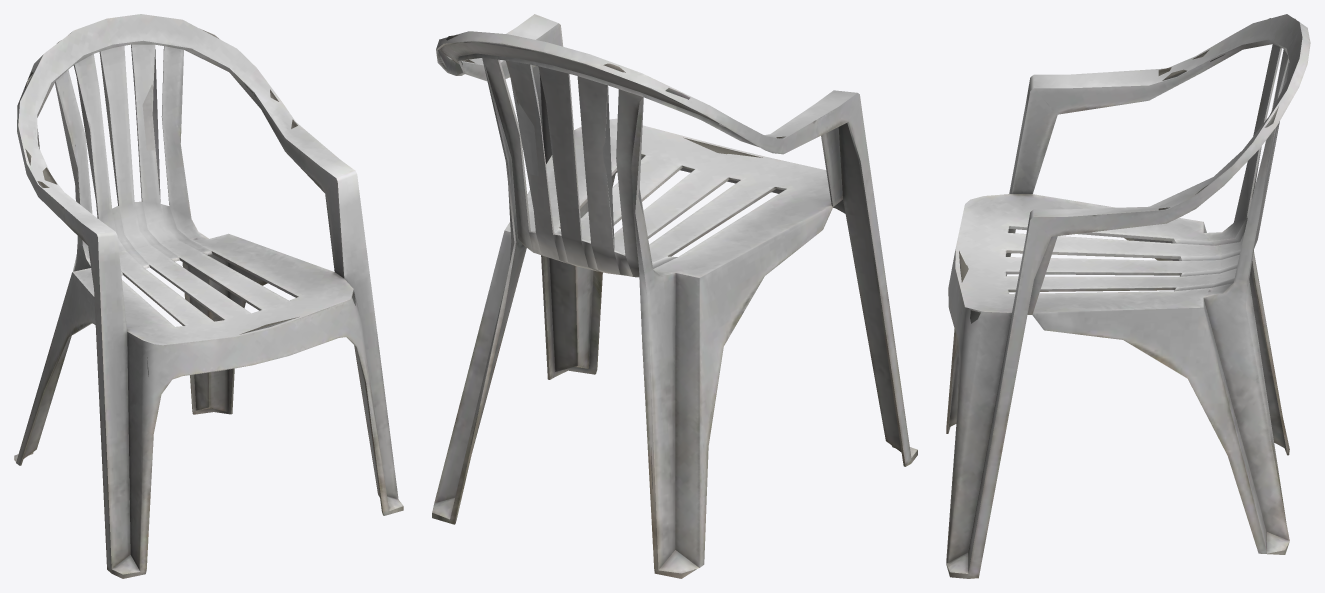
File: silla_plastica.glb
3 views of the same model, side by side, from view 1: azimuth 30°, elevation 25°; view 2: azimuth 150°, elevation 25°; view 3: azimuth 270°, elevation 25° (orthographic). The views are drawn at different scales.
Parts seen in each view (by area): view 1: silla_plastica; view 2: silla_plastica; view 3: silla_plastica.
Part boxes in pixels (x1=…): silla_plastica: x1=14, y1=14, x2=403, y2=578; silla_plastica: x1=432, y1=14, x2=917, y2=578; silla_plastica: x1=946, y1=14, x2=1310, y2=578.
Bounding box in the file's own units: 0.6419 × 0.8798 × 0.6276.
Materials: 1 (1 with a texture image).
